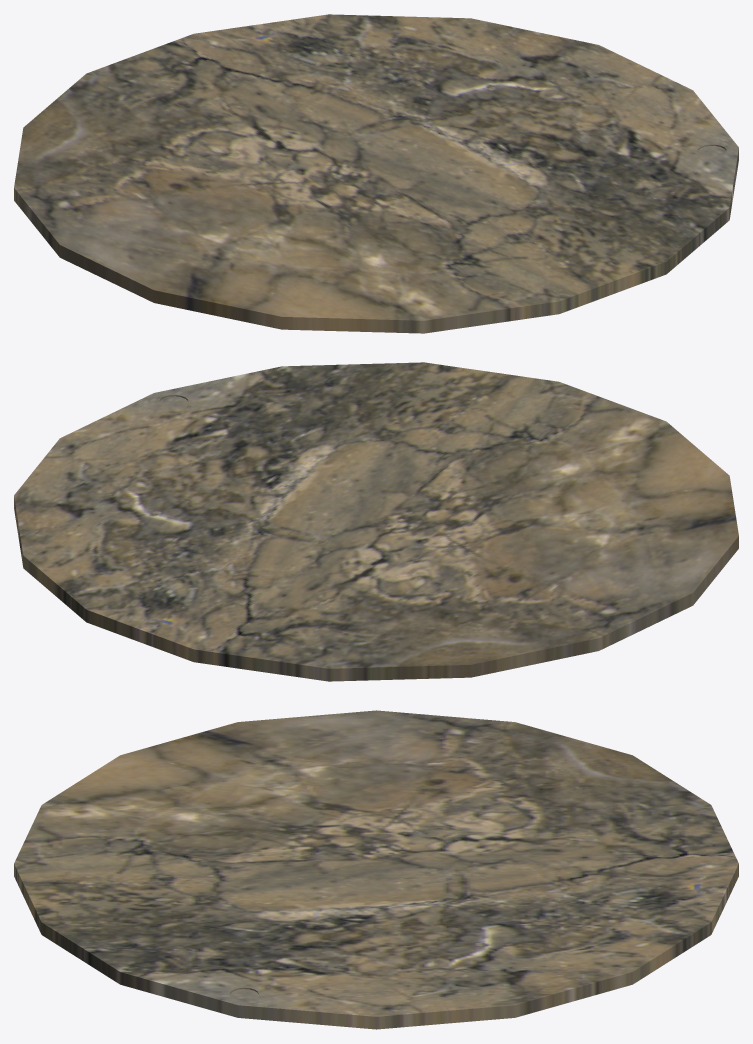
Rendered from circulo_piedra5.FBX.
3 renders of one model, top to bottom at view 1: azimuth 30°, elevation 25°; view 2: azimuth 150°, elevation 25°; view 3: azimuth 270°, elevation 25°, orthographic.
Visible parts, largest first — view 1: circulo_piedra004; view 2: circulo_piedra004; view 3: circulo_piedra004.
Part boxes in pixels (bbox=[...]): circulo_piedra004: bbox=[14, 14, 738, 333]; circulo_piedra004: bbox=[14, 362, 738, 681]; circulo_piedra004: bbox=[14, 710, 738, 1029].
Bounding box in the file's own units: 98.99 × 1.91 × 98.99.
